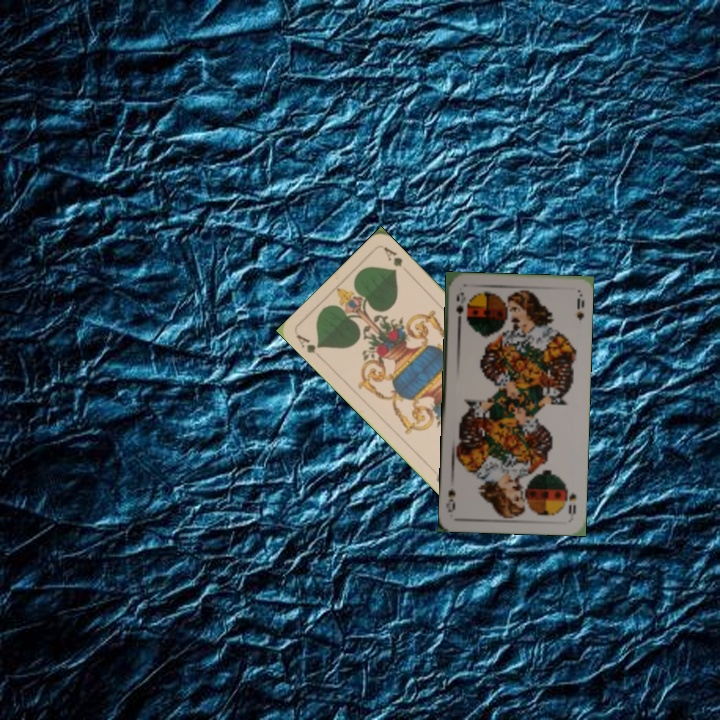GA: (292, 330, 324, 362)
SO: (452, 288, 467, 327), (563, 484, 579, 519)
